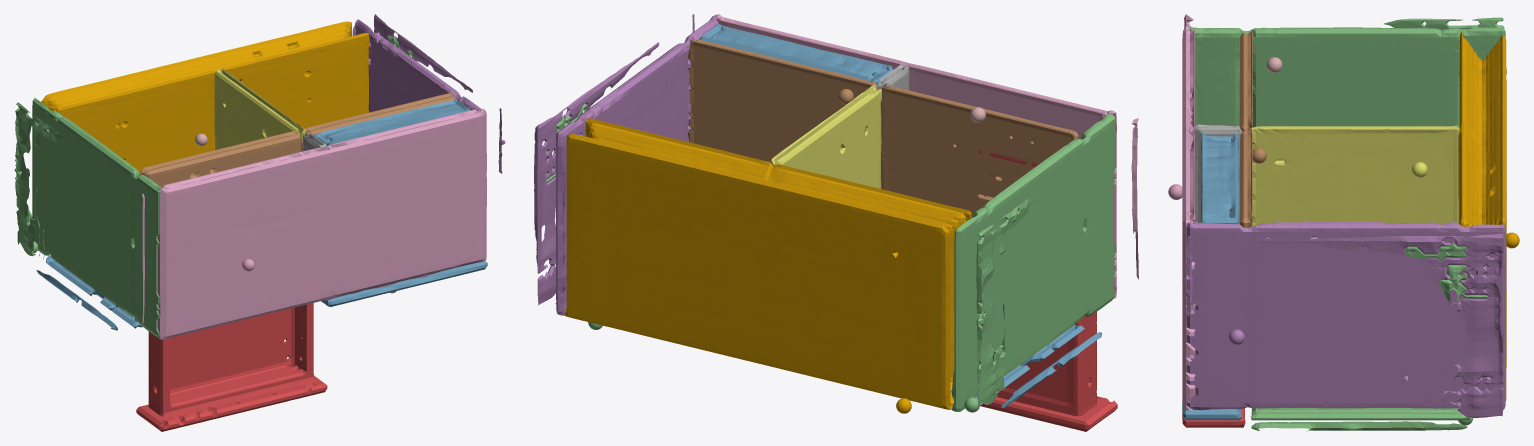
File: ours.glb
3 renders of one model, left to right at view 1: azimuth 30°, elevation 25°; view 2: azimuth 150°, elevation 25°; view 3: azimuth 270°, elevation 25°, orthographic. The views are drawn at different scales.
Parts seen in each view (by area): view 1: g7, g4, g2, g0, g3, g6, g5, g1, g10; view 2: g4, g2, g6, g3, g7, g0, g5, g1, g10, g8; view 3: g3, g2, g5, g4, g11, g7, g1, g6, g8, g0.
Boxes of the visible parts, <box> form: g7: <box>142,109,486,339</box>; g4: <box>41,21,369,173</box>; g2: <box>14,98,162,337</box>; g0: <box>136,303,327,431</box>; g3: <box>352,14,505,173</box>; g6: <box>139,92,455,187</box>; g5: <box>214,68,305,151</box>; g1: <box>315,99,487,306</box>; g10: <box>36,255,142,330</box>; g4: <box>565,118,971,413</box>; g2: <box>951,113,1115,412</box>; g6: <box>688,39,1078,217</box>; g3: <box>534,14,718,315</box>; g7: <box>714,14,1138,298</box>; g0: <box>980,312,1117,431</box>; g5: <box>771,85,881,188</box>; g1: <box>699,24,892,87</box>; g10: <box>976,324,1102,408</box>; g8: <box>878,64,909,184</box>; g3: <box>1184,221,1506,417</box>; g2: <box>1189,17,1505,128</box>; g5: <box>1251,125,1459,226</box>; g4: <box>1458,32,1519,400</box>; g11: <box>1250,242,1488,431</box>; g7: <box>1168,14,1195,410</box>; g1: <box>1182,132,1242,420</box>; g6: <box>1239,30,1266,227</box>; g8: <box>1194,124,1242,223</box>; g0: <box>1182,399,1245,427</box>.
Bounding box in the file's own units: 2.1 × 1.43 × 1.41.
